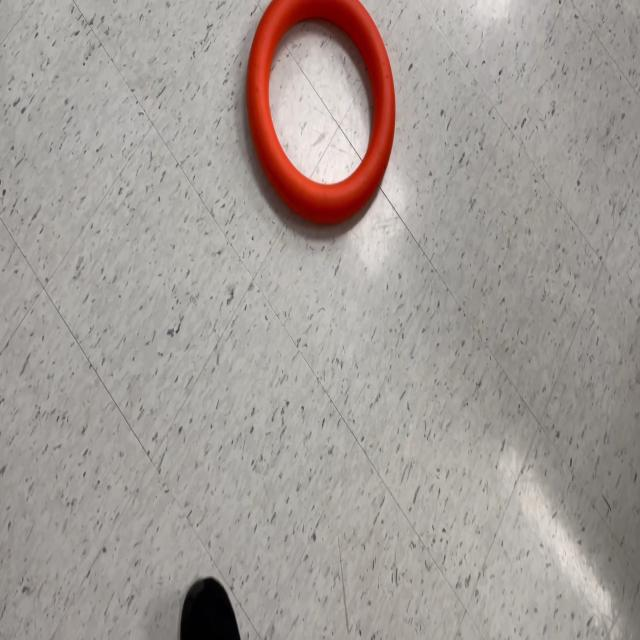note: (247, 2, 398, 230)
